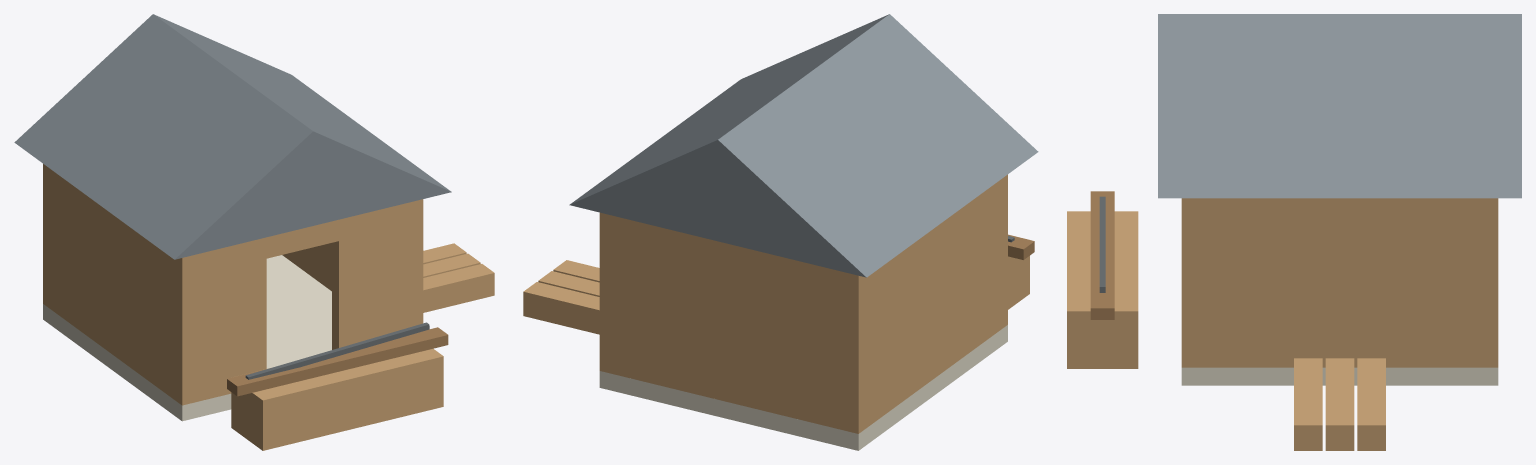
The model's file is carpenters-shop.glb.
3 views of the same model, side by side, from view 1: azimuth 30°, elevation 25°; view 2: azimuth 150°, elevation 25°; view 3: azimuth 270°, elevation 25° (orthographic). The views are drawn at different scales.
Visible parts, largest first — view 1: carpenters-shop; view 2: carpenters-shop; view 3: carpenters-shop.
Boxes of the visible parts, x1=… form: carpenters-shop: x1=14, y1=14, x2=494, y2=450; carpenters-shop: x1=523, y1=14, x2=1038, y2=450; carpenters-shop: x1=1067, y1=14, x2=1521, y2=450.
Bounding box in the file's own units: 6.3 × 4.25 × 5.75.
